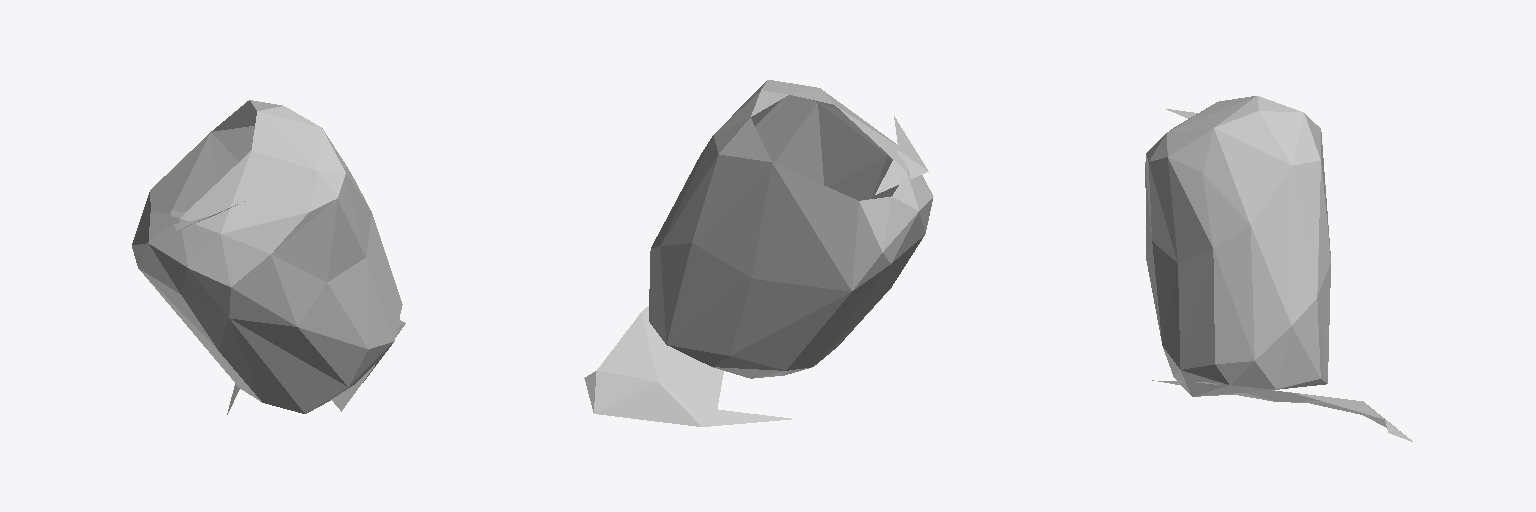
Rendered from RightMHand.obj.
3 views of the same model, side by side, from view 1: azimuth 30°, elevation 25°; view 2: azimuth 150°, elevation 25°; view 3: azimuth 270°, elevation 25° (orthographic).
Parts seen in each view (by area): view 1: Stone:Mesh; view 2: Stone:Mesh; view 3: Stone:Mesh.
Part boxes in pixels (left/top/right/bottom): Stone:Mesh: left=132, top=100, right=405, bottom=414; Stone:Mesh: left=584, top=80, right=933, bottom=426; Stone:Mesh: left=1145, top=96, right=1412, bottom=441.
Size of the model in its own units: 2.28 by 2.62 by 2.06.